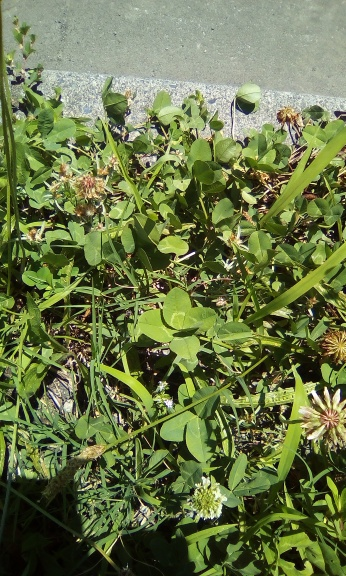4leaf: (138, 286, 217, 359)
